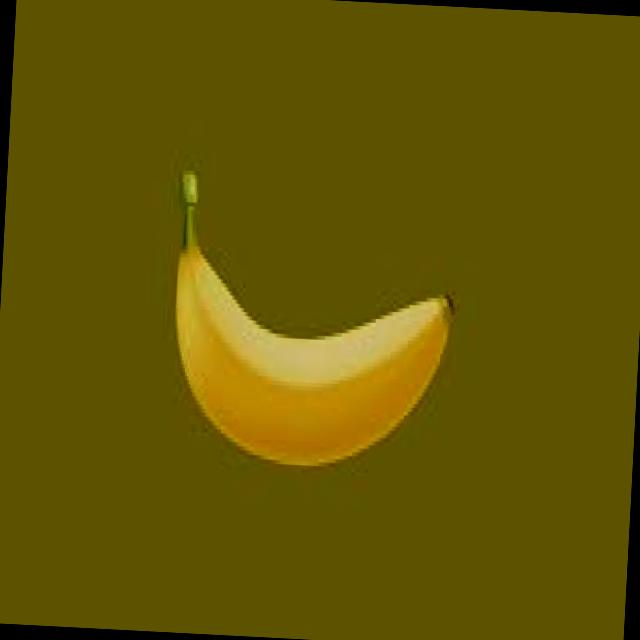Banana: (152, 148, 472, 495)
